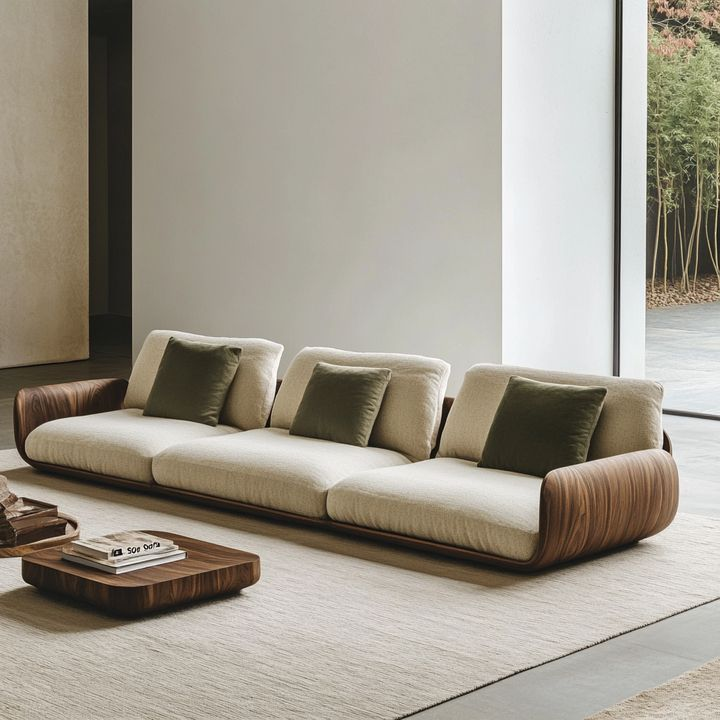3seatersofa: (15, 331, 678, 570)
backrest: (119, 328, 675, 479)
base: (26, 460, 551, 572)
leftarmrest: (533, 450, 677, 566)
pillow: (479, 376, 607, 475), (291, 362, 390, 446), (146, 340, 238, 422)
rightarmrest: (14, 379, 127, 460)
seat: (26, 409, 541, 559)
